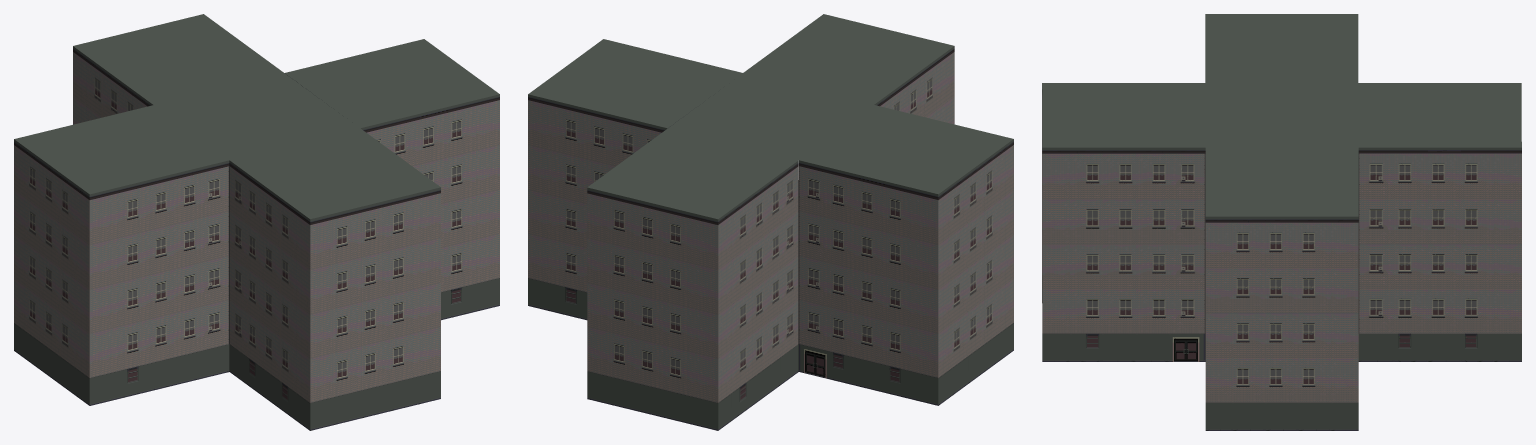
The model's file is crossresidential.glb.
3 views of the same model, side by side, from view 1: azimuth 30°, elevation 25°; view 2: azimuth 150°, elevation 25°; view 3: azimuth 270°, elevation 25° (orthographic).
Visible parts, largest first — view 1: cross residential; view 2: cross residential; view 3: cross residential.
Part boxes in pixels (<box>): cross residential: <box>14,14,499,430</box>; cross residential: <box>528,14,1013,430</box>; cross residential: <box>1042,14,1521,430</box>.
Size of the model in its own units: 43.91 by 21.64 by 43.91.
1 material, 1 textured.
